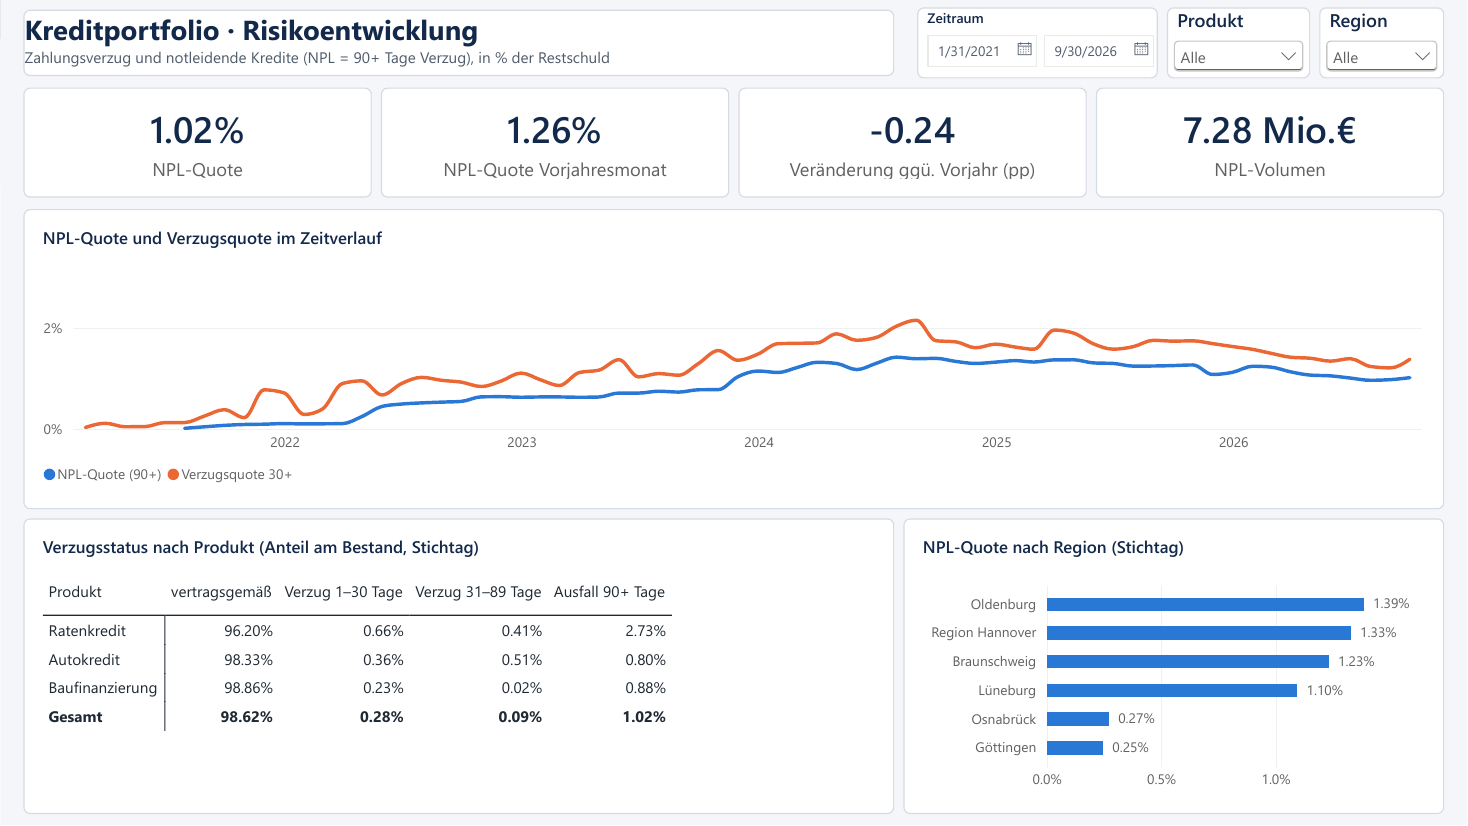

This screenshot's page, from the dashboard's own definition file:
{"tool":"powerbi","page":{"name":"Risikoentwicklung","canvas":[1280,720],"ordinal":1},"visuals":[{"type":"textbox","box":[20,8,760,58],"z":1000},{"type":"slicer","fields":{"Values":["dim_datum.datum"]},"box":[800,6,210,62],"z":2000},{"type":"slicer","fields":{"Values":["dim_produkt.produkt"]},"box":[1018,6,125,62],"z":3000},{"type":"slicer","fields":{"Values":["dim_region.region"]},"box":[1151,6,109,62],"z":4000},{"type":"card","fields":{"Values":["_Measures.NPL-Quote Stichtag"]},"box":[20,76,304,96],"z":5000},{"type":"card","fields":{"Values":["_Measures.NPL-Quote Vorjahr"]},"box":[332,76,304,96],"z":6000},{"type":"card","fields":{"Values":["_Measures.NPL-Quote Veränderung VJ (pp)"]},"box":[644,76,304,96],"z":7000},{"type":"card","fields":{"Values":["_Measures.NPL Volumen Stichtag"]},"box":[956,76,304,96],"z":8000},{"type":"lineChart","title":"NPL-Quote und Verzugsquote im Zeitverlauf","fields":{"Category":["dim_datum.datum"],"Y":["_Measures.NPL-Quote","_Measures.Verzugsquote 30+"]},"box":[20,182,1240,262],"z":9000},{"type":"pivotTable","title":"Verzugsstatus nach Produkt (Anteil am Bestand, Stichtag)","fields":{"Rows":["dim_produkt.produkt"],"Columns":["fact_bestand_monat.verzugsstatus"],"Values":["_Measures.Anteil am Bestand"]},"box":[20,452,760,258],"z":10000},{"type":"clusteredBarChart","title":"NPL-Quote nach Region (Stichtag)","fields":{"Category":["dim_region.region"],"Y":["_Measures.NPL-Quote Stichtag"]},"box":[788,452,472,258],"z":11000}]}

Visuals, with their boxes in screenshot pixels (x1, y1, x2, y2), scaled from the page's 1280x720 canvas onto the 1468x826 screenshot:
textbox: <region>23, 9, 895, 76</region>
slicer - dim_datum.datum: <region>918, 7, 1158, 78</region>
slicer - dim_produkt.produkt: <region>1168, 7, 1311, 78</region>
slicer - dim_region.region: <region>1320, 7, 1445, 78</region>
card - _Measures.NPL-Quote Stichtag: <region>23, 87, 372, 197</region>
card - _Measures.NPL-Quote Vorjahr: <region>381, 87, 729, 197</region>
card - _Measures.NPL-Quote Veränderung VJ (pp): <region>739, 87, 1087, 197</region>
card - _Measures.NPL Volumen Stichtag: <region>1096, 87, 1445, 197</region>
"NPL-Quote und Verzugsquote im Zeitverlauf" lineChart: <region>23, 209, 1445, 509</region>
"Verzugsstatus nach Produkt (Anteil am Bestand, Stichtag)" pivotTable: <region>23, 519, 895, 815</region>
"NPL-Quote nach Region (Stichtag)" clusteredBarChart: <region>904, 519, 1445, 815</region>
